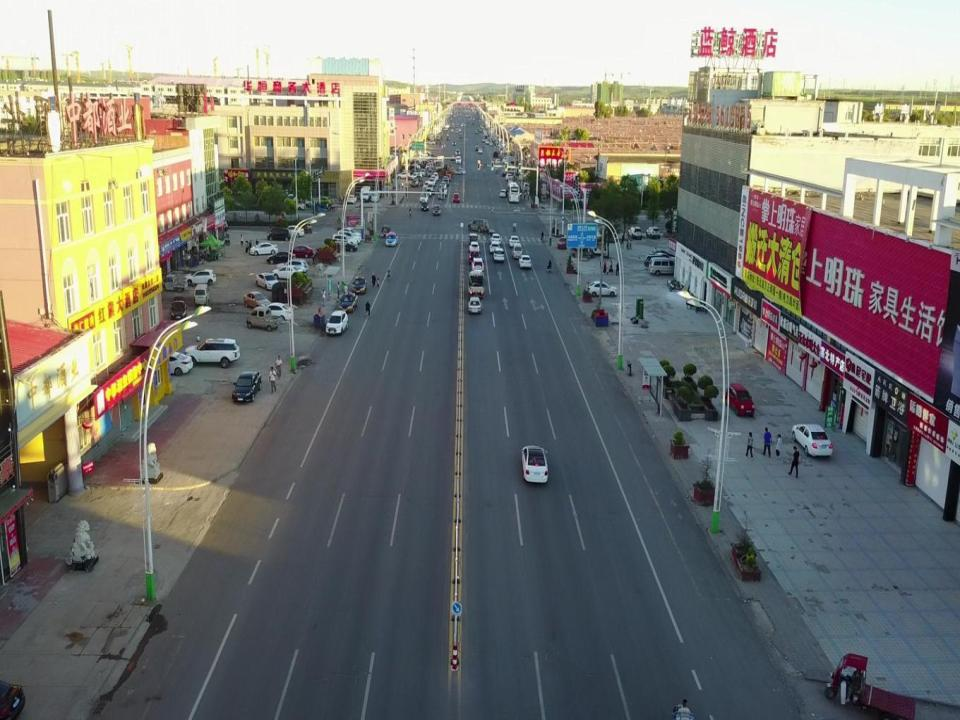bus: (579, 227, 608, 254), (509, 181, 520, 204)
car: (184, 338, 240, 367), (791, 421, 833, 458), (519, 445, 549, 484), (726, 380, 755, 419), (231, 370, 261, 403), (160, 349, 194, 376), (243, 290, 273, 310), (325, 309, 348, 335), (183, 268, 216, 285), (264, 302, 292, 322), (271, 264, 304, 280), (588, 280, 618, 296), (170, 295, 188, 321), (254, 272, 280, 290), (279, 258, 309, 272), (248, 242, 279, 255), (338, 292, 358, 312), (266, 250, 294, 264), (285, 244, 314, 257), (331, 233, 355, 246), (350, 276, 366, 294), (467, 218, 489, 231), (468, 295, 482, 315), (283, 224, 304, 237), (336, 230, 360, 241), (335, 240, 358, 251), (340, 227, 362, 237), (384, 230, 397, 246), (518, 254, 532, 268), (493, 248, 507, 262), (471, 257, 485, 271), (646, 225, 660, 237), (507, 234, 519, 248), (556, 236, 568, 250), (489, 240, 500, 254), (468, 250, 480, 262), (466, 232, 478, 244), (318, 195, 330, 207), (628, 225, 642, 235), (468, 240, 479, 252), (490, 232, 501, 244), (345, 193, 357, 204), (432, 204, 441, 216), (453, 166, 465, 175), (286, 192, 294, 205), (452, 193, 461, 203), (420, 201, 428, 212), (418, 193, 428, 201), (615, 260, 620, 276), (499, 189, 506, 198), (475, 144, 479, 152), (455, 149, 460, 155), (478, 147, 482, 154)
truck: (246, 306, 280, 331), (465, 268, 486, 298)
van: (647, 258, 680, 275), (643, 252, 673, 268), (194, 282, 210, 306), (267, 227, 291, 241), (289, 197, 306, 210), (294, 195, 311, 208), (512, 241, 523, 259), (360, 184, 371, 202), (370, 191, 380, 201), (454, 155, 462, 164)
